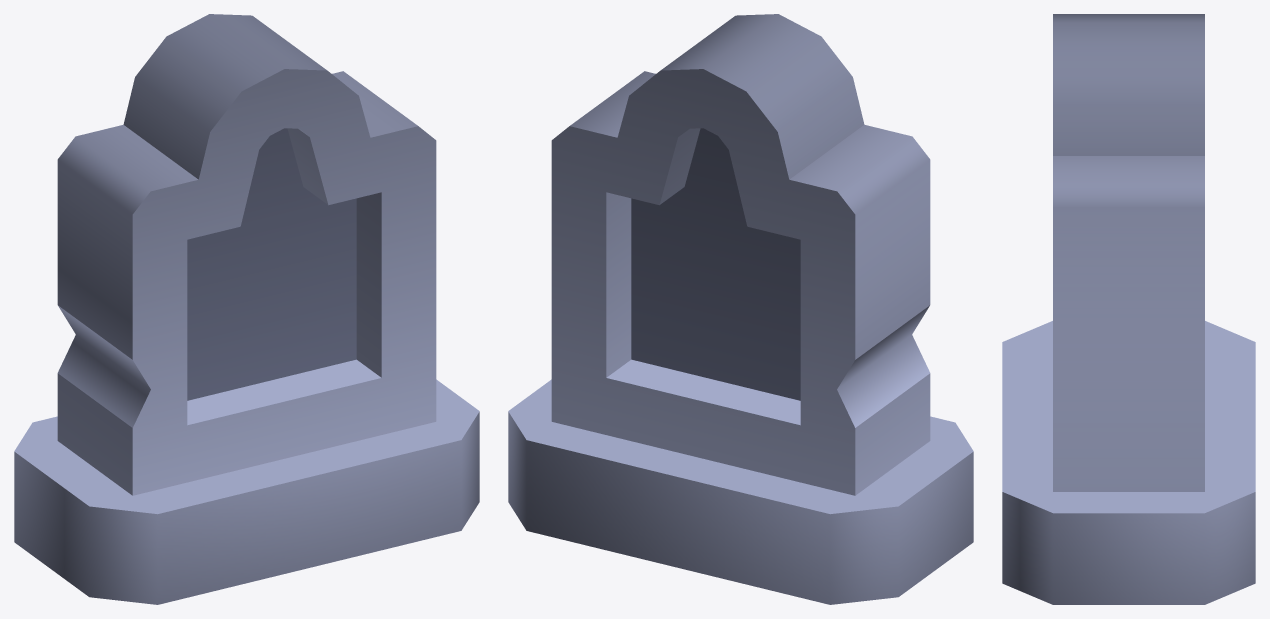
The model's file is gravestone-bevel.004_lev3.glb.
3 renders of one model, left to right at view 1: azimuth 30°, elevation 25°; view 2: azimuth 150°, elevation 25°; view 3: azimuth 270°, elevation 25°, orthographic.
Visible parts, largest first — view 1: gravestone-bevel.004_lev3; view 2: gravestone-bevel.004_lev3; view 3: gravestone-bevel.004_lev3.
Boxes of the visible parts, left/top/right/bottom form: gravestone-bevel.004_lev3: left=14, top=14, right=479, bottom=604; gravestone-bevel.004_lev3: left=508, top=14, right=973, bottom=604; gravestone-bevel.004_lev3: left=1002, top=14, right=1255, bottom=604.
Size of the model in its own units: 2.03 by 2.39 by 1.13.
Materials: 1 (1 with a texture image).
